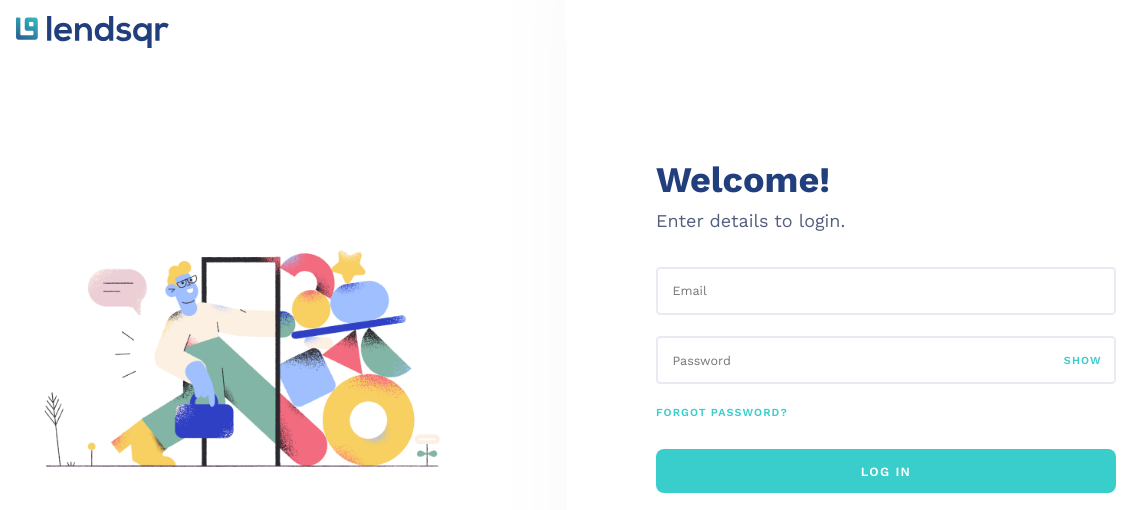
Login Component › toggles password visibility
Click the text "SHOW". click: [1083, 360]
box: [1064,354,1102,367]
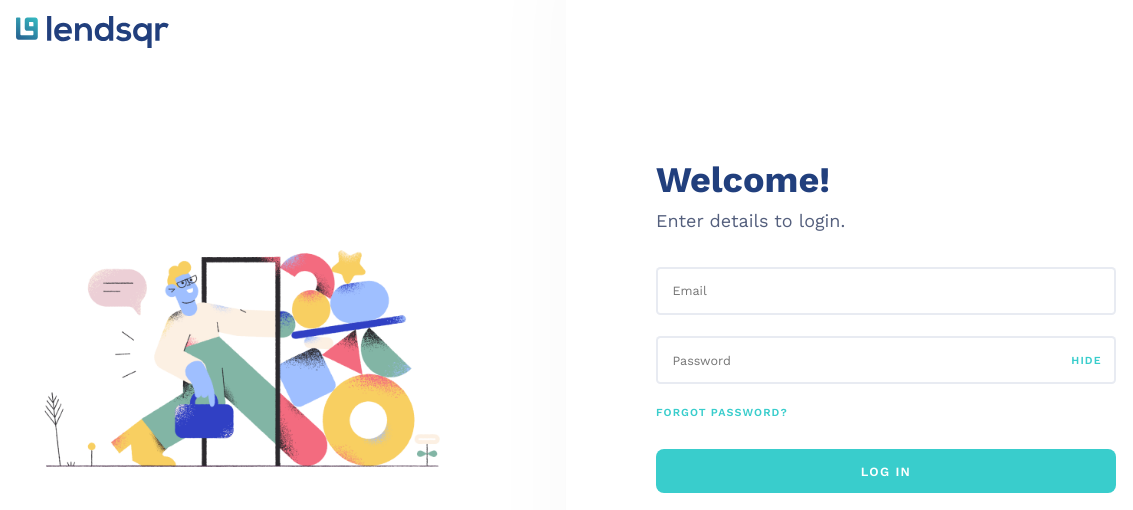
Now the text "HIDE" is shown, box [1071,354,1102,367]
